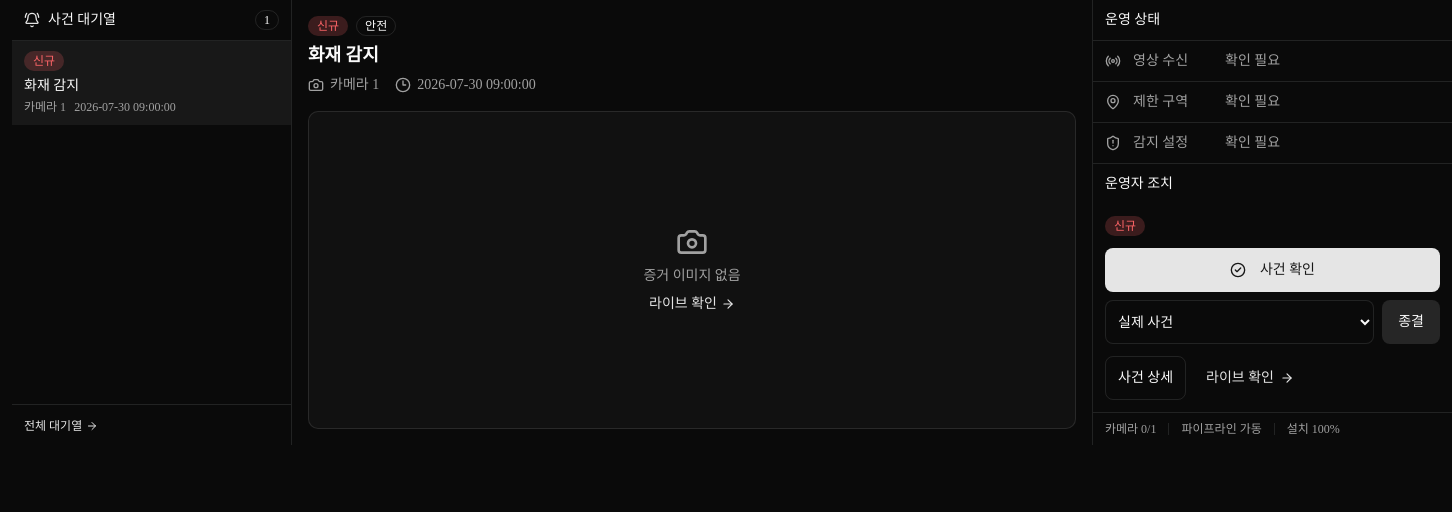
Test: SignalWorkspace › shows error feedback when incident action fails
Step 1. Click the button "사건 확인" → (1272, 270), box [1105,248,1440,292]
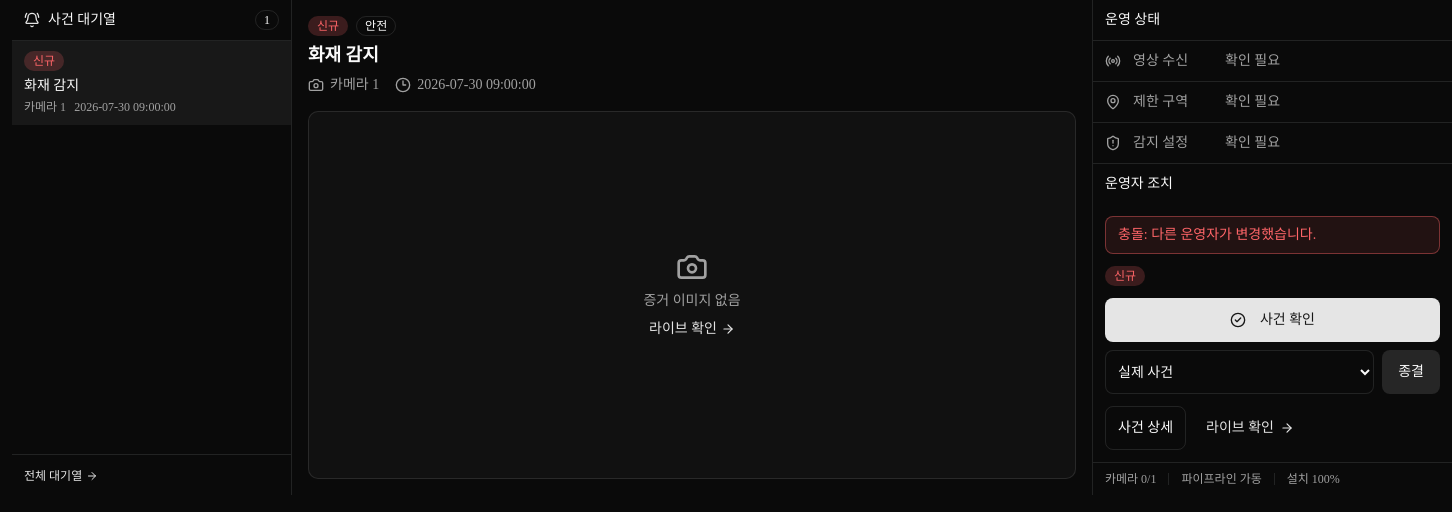
Expected: the message shows "충돌", [1118,227,1316,242]
